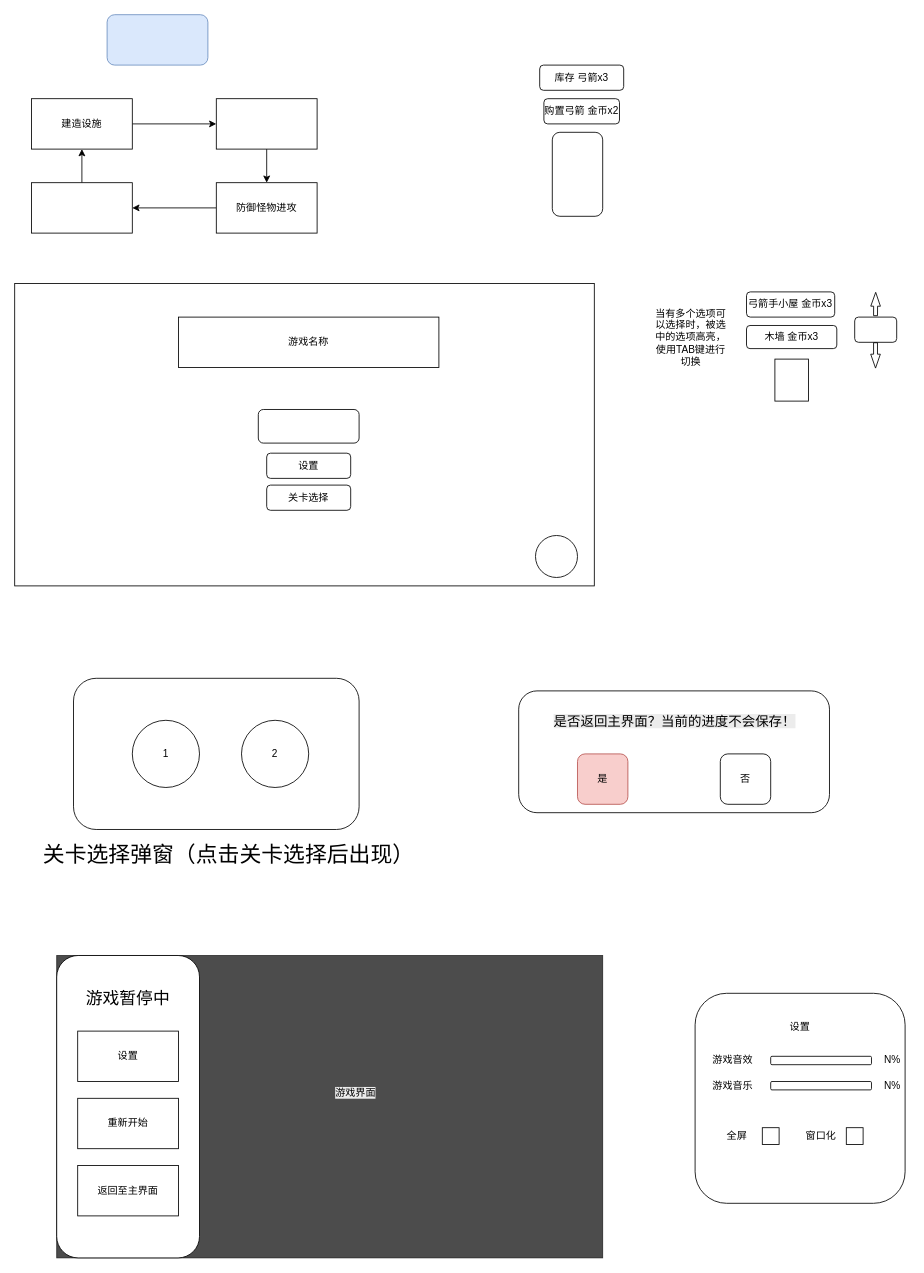
This 924x1273 diagram has some shape labels left out. Each missing label, with the centre of its shape:
TAB: the point at 875,329
土堆: the point at 791,379
对外扩张: the point at 81,207
建筑: the point at 577,173
开始游戏: the point at 308,426
扩增兵力: the point at 266,123
核心流程: the point at 157,39
退出图标: the point at 556,556
